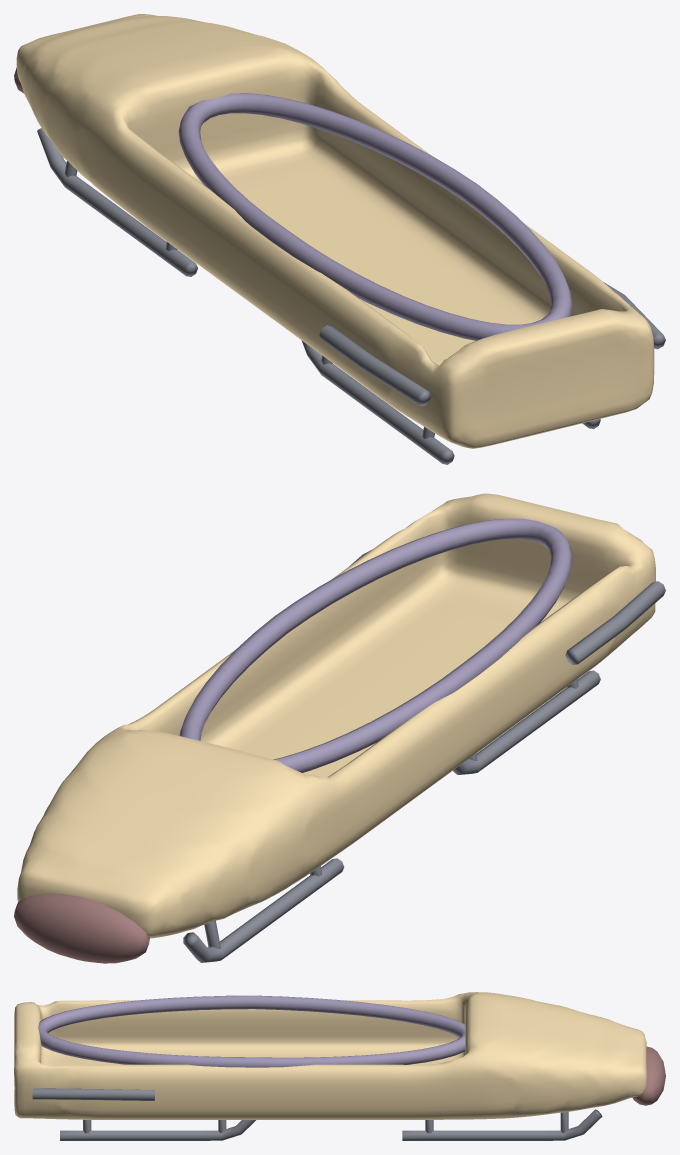
The model's file is BobsledSled.glb.
3 renders of one model, top to bottom at view 1: azimuth 30°, elevation 25°; view 2: azimuth 150°, elevation 25°; view 3: azimuth 270°, elevation 25°, orthographic. The views are drawn at different scales.
Parts seen in each view (by area): view 1: Body, Rim, Runner; view 2: Body, Rim, Runner, Nose; view 3: Body, Rim, Runner, Nose.
Boxes of the visible parts, left/top/right/bottom form: Body: left=16, top=14, right=654, bottom=448; Rim: left=178, top=93, right=572, bottom=340; Runner: left=37, top=128, right=665, bottom=464; Body: left=17, top=493, right=655, bottom=938; Rim: left=179, top=518, right=572, bottom=772; Runner: left=183, top=550, right=665, bottom=962; Nose: left=14, top=893, right=149, bottom=963; Body: left=14, top=992, right=646, bottom=1119; Rim: left=38, top=995, right=465, bottom=1067; Runner: left=32, top=1088, right=602, bottom=1140; Nose: left=632, top=1046, right=665, bottom=1105.
Bounding box in the file's own units: 4.56 × 2.45 × 14.47.
